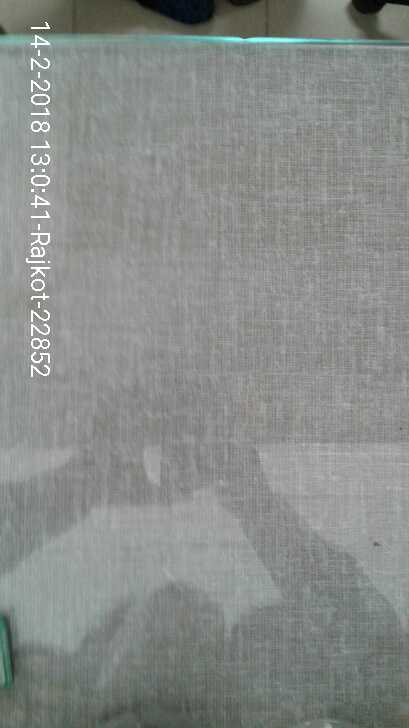reject: (143, 233, 216, 341)
